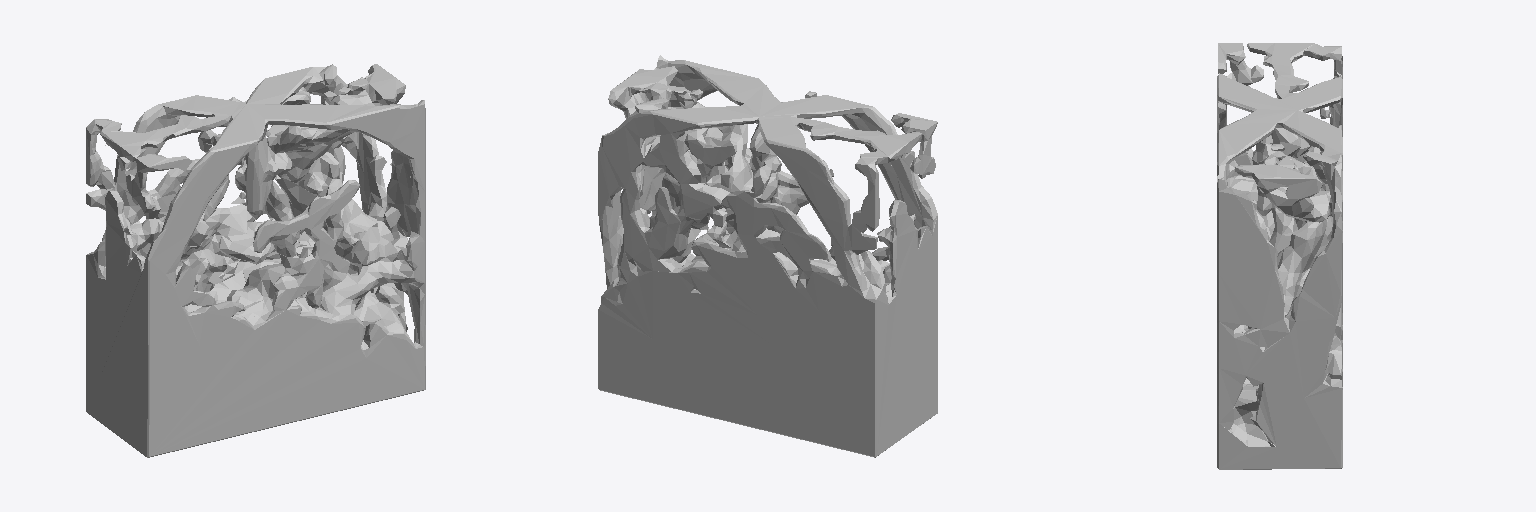
The picture shows the model from 3 angles: view 1: azimuth 30°, elevation 25°; view 2: azimuth 150°, elevation 25°; view 3: azimuth 270°, elevation 25°; orthographic projection.
Parts seen in each view (by area): view 1: Liquid_Domain; view 2: Liquid_Domain; view 3: Liquid_Domain.
Boxes of the visible parts, box(x1,y1,x2,y2) form: Liquid_Domain: box(86, 64, 425, 457); Liquid_Domain: box(598, 55, 937, 457); Liquid_Domain: box(1217, 43, 1342, 469).
Size of the model in its own units: 884 by 884 by 344.